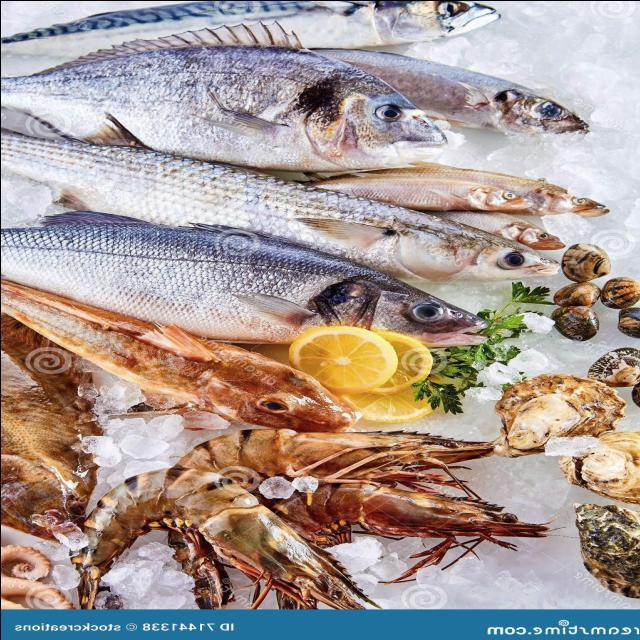fish: (0, 124, 558, 280), (0, 210, 484, 340), (0, 43, 448, 170), (0, 279, 355, 429), (0, 0, 497, 59), (318, 48, 586, 133), (305, 162, 608, 215)
